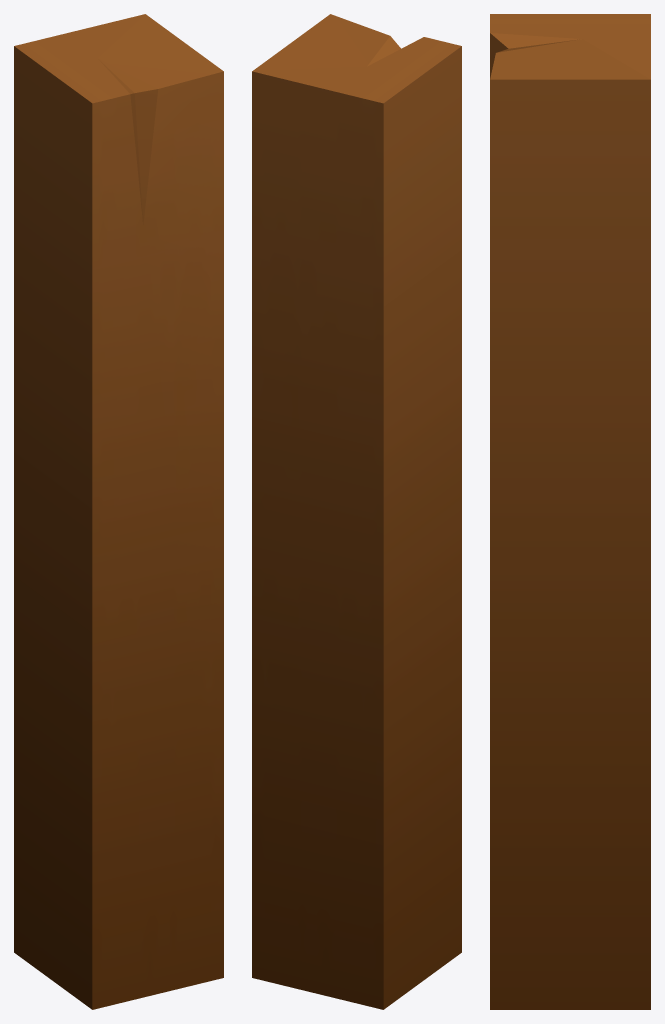
Rendered from Fence_Post_A.fbx.
3 views of the same model, side by side, from view 1: azimuth 30°, elevation 25°; view 2: azimuth 150°, elevation 25°; view 3: azimuth 270°, elevation 25° (orthographic). The views are drawn at different scales.
Parts seen in each view (by area): view 1: Fence_Post_A; view 2: Fence_Post_A; view 3: Fence_Post_A.
Boxes of the visible parts, <box> form: Fence_Post_A: <box>14,14,223,1009</box>; Fence_Post_A: <box>252,14,461,1009</box>; Fence_Post_A: <box>490,14,650,1009</box>.
Size of the model in its own units: 19.65 by 20.3 by 129.
Materials: 1 (1 with a texture image).
